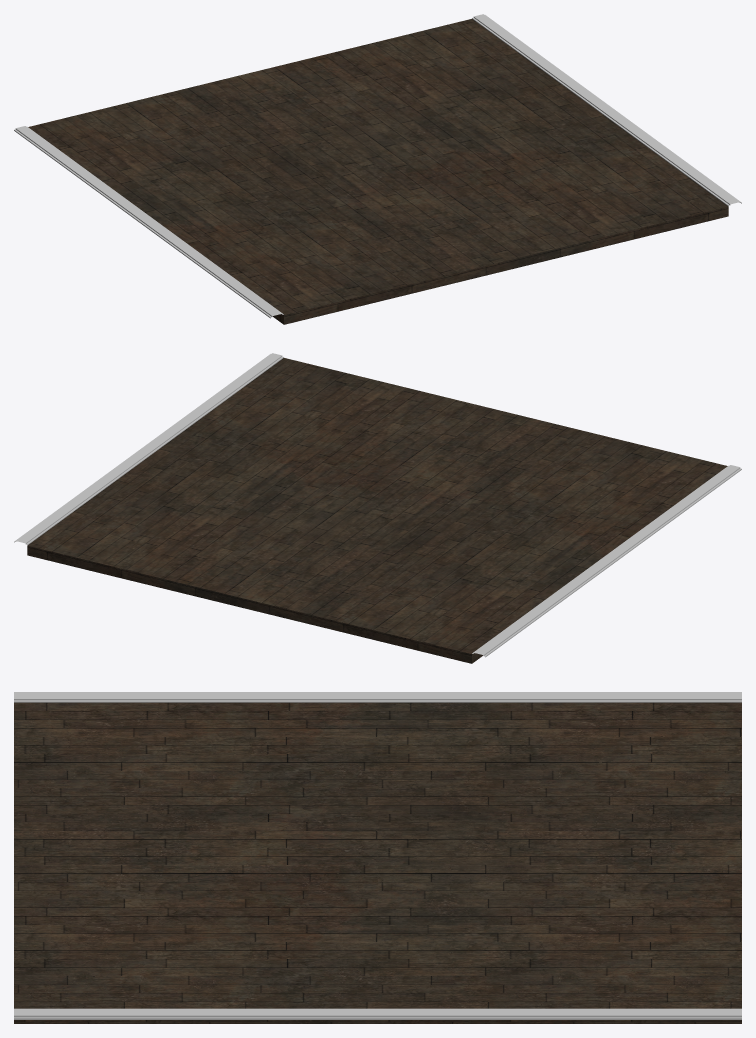
Rendered from hallway_4way_6m.fbx.
3 renders of one model, top to bottom at view 1: azimuth 30°, elevation 25°; view 2: azimuth 150°, elevation 25°; view 3: azimuth 270°, elevation 25°, orthographic. The views are drawn at different scales.
Parts seen in each view (by area): view 1: hallway_4way_6m; view 2: hallway_4way_6m; view 3: hallway_4way_6m.
Boxes of the visible parts, x1,y1,x2,y2 form: hallway_4way_6m: (14, 14, 741, 324); hallway_4way_6m: (14, 353, 741, 663); hallway_4way_6m: (14, 692, 741, 1023).
Bounding box in the file's own units: 636 × 14.85 × 600.
